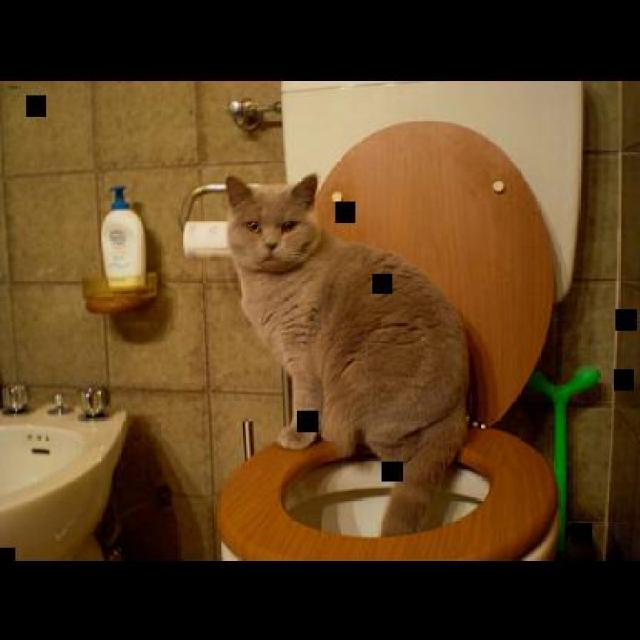unauthorized: (223, 171, 471, 535)
